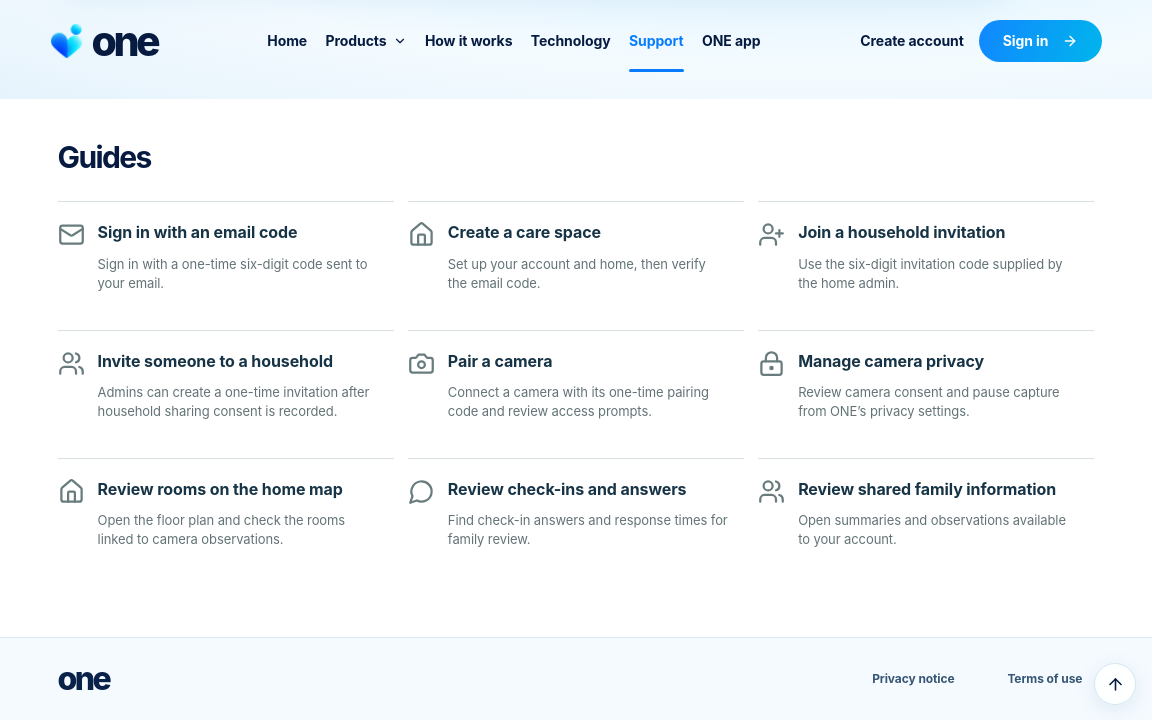
Test case: marketing navigation and controls › opens a selected privacy guide at the matching app settings
(page scrolled)
Step 1. Click the button "Manage camera privacy" → click(926, 387), box [758,330,1094,444]
(page scrolled)
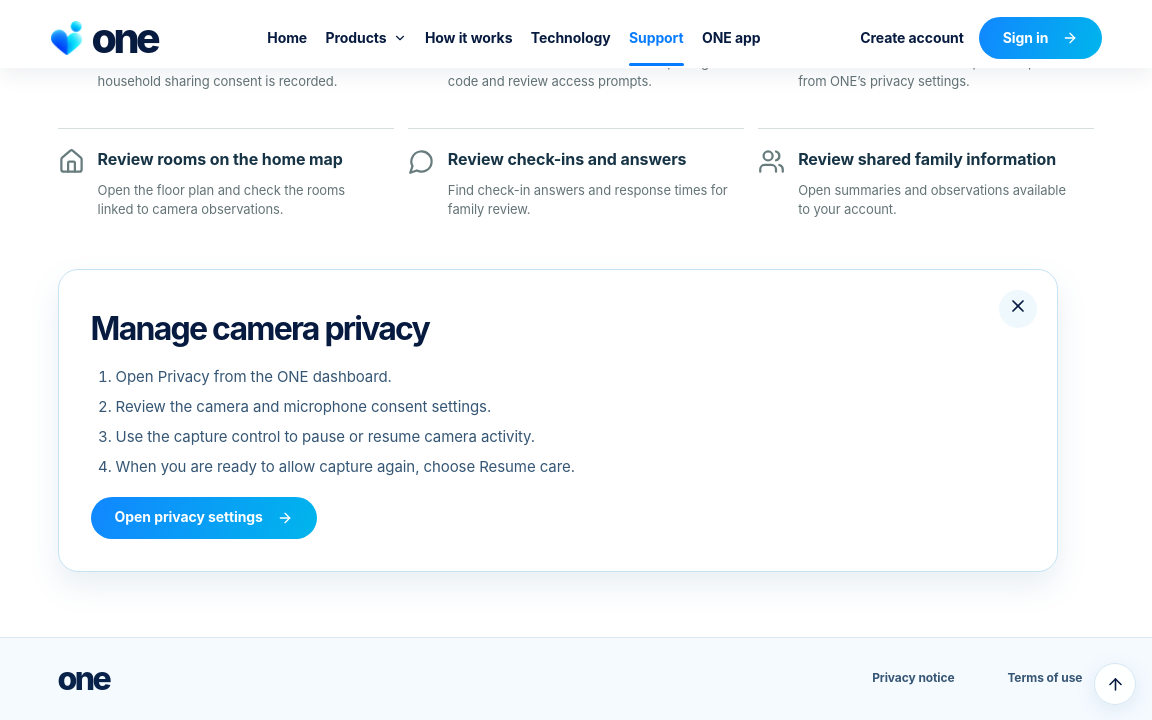
expect the heading "Manage camera privacy" is shown: met, box [91,309,429,348]
